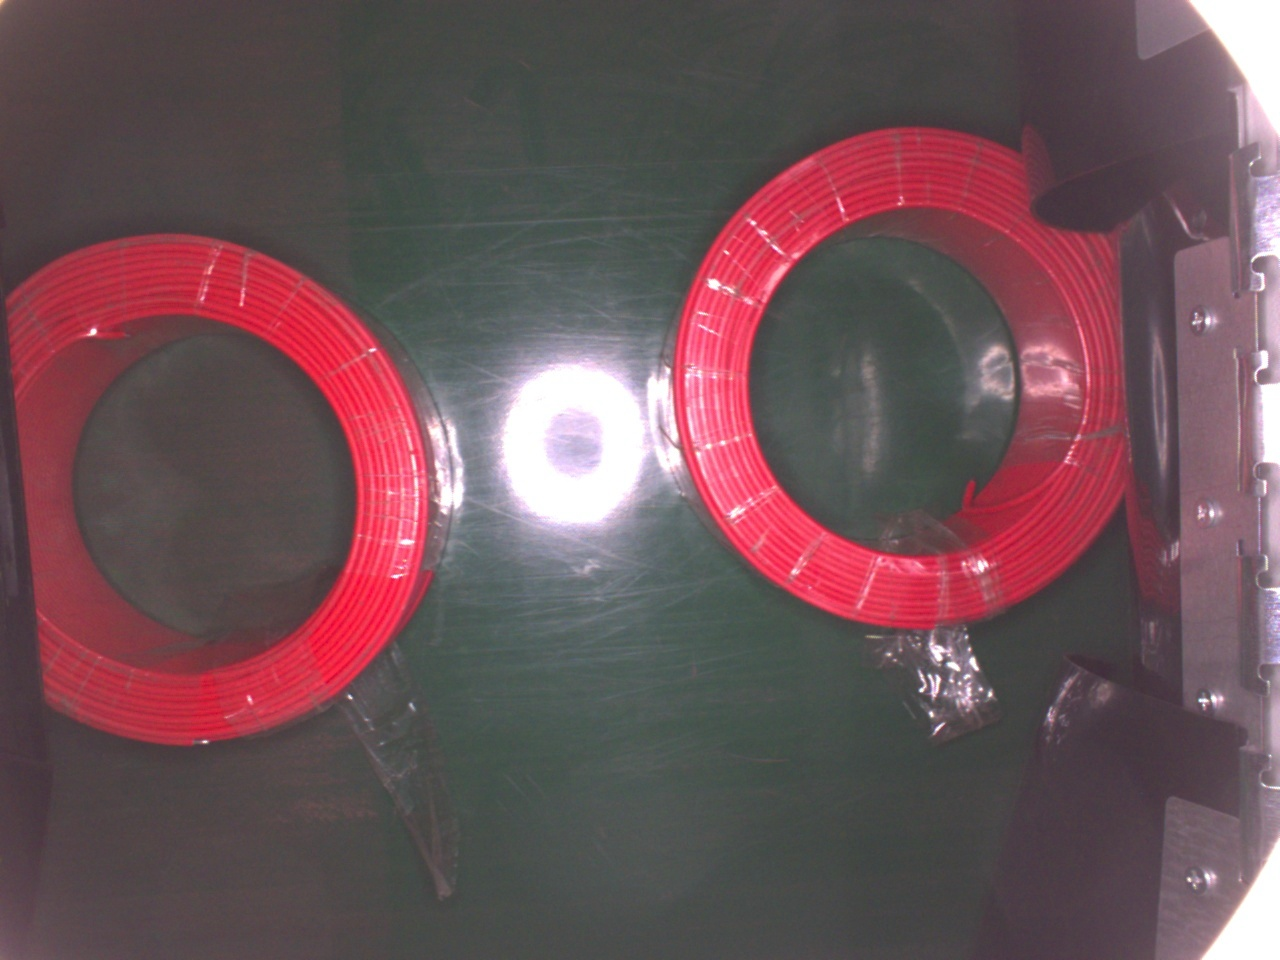red: (664, 124, 1125, 635), (5, 228, 457, 747)
